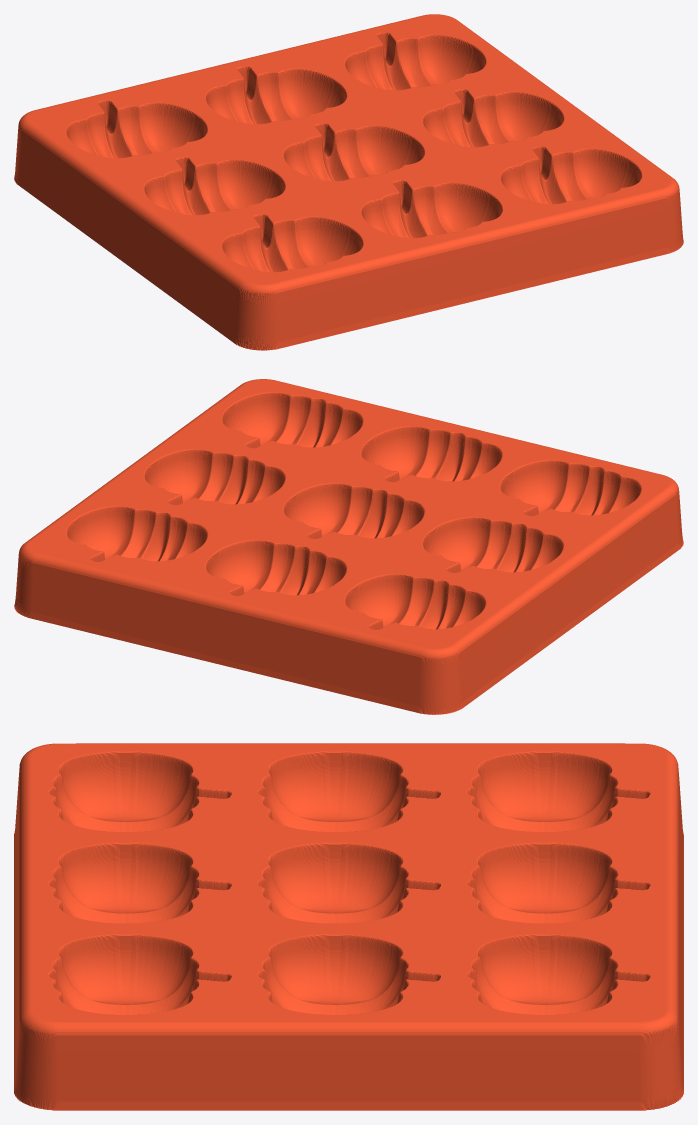
File: mold.glb
3 renders of one model, top to bottom at view 1: azimuth 30°, elevation 25°; view 2: azimuth 150°, elevation 25°; view 3: azimuth 270°, elevation 25°, orthographic. The views are drawn at different scales.
Parts seen in each view (by area): view 1: geometry_0; view 2: geometry_0; view 3: geometry_0.
Boxes of the visible parts, <box> form: geometry_0: <box>14,14,683,350</box>; geometry_0: <box>14,379,683,714</box>; geometry_0: <box>14,743,683,1110</box>.
Bounding box in the file's own units: 0.1402 × 0.0182 × 0.1359.
